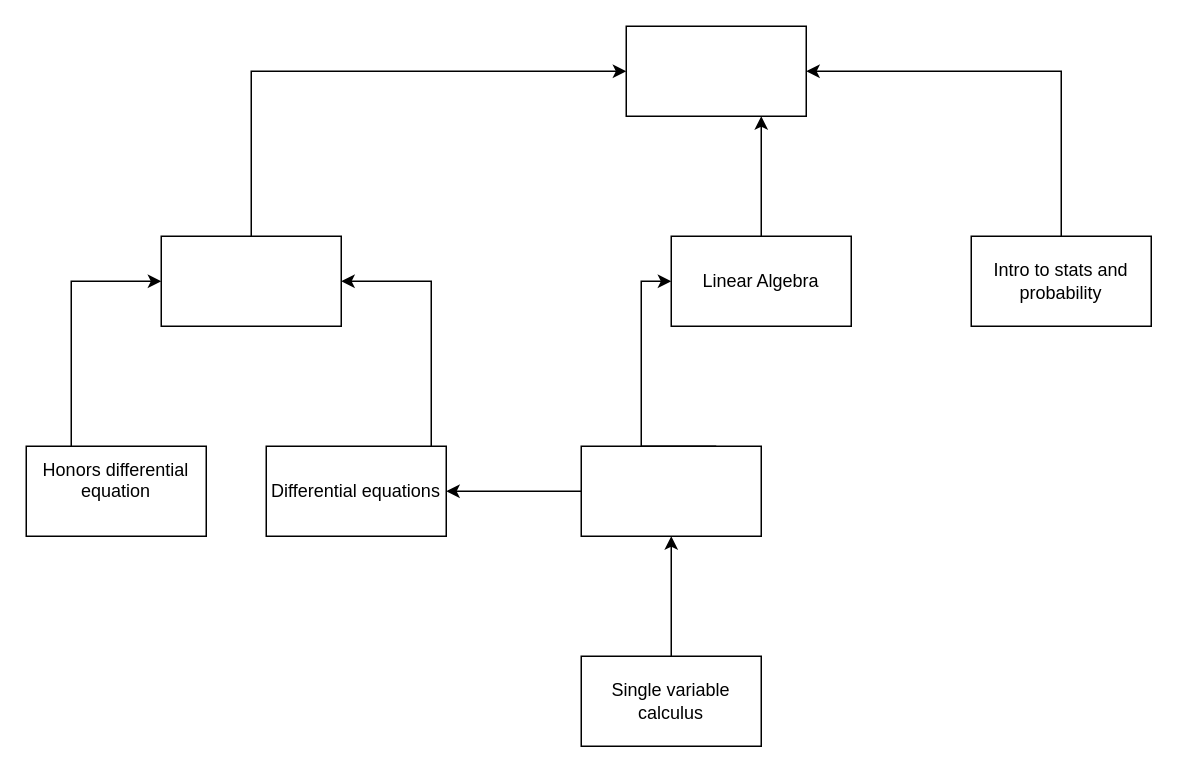
This 1178x773 diagram has some shape labels left out. The shapes that lost their labels are listed below. From the top down, each one's centre as x and y in pixels, then its label:
point 715,70: Maths of machine learning
point 250,280: Real Analysis
point 670,490: Multivariable calculus
